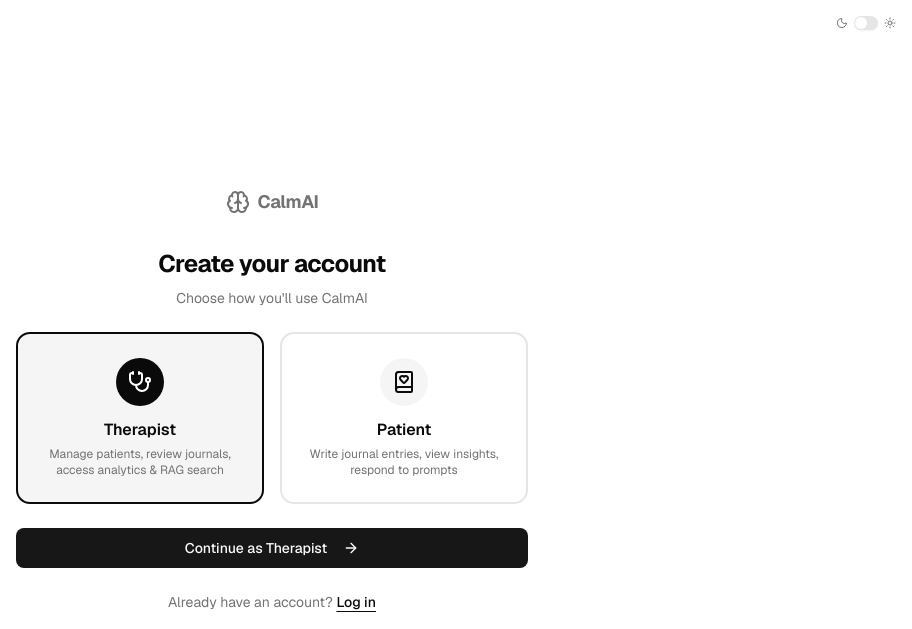
Test: Signup page › switches back to Therapist role when Therapist card is clicked
The image size is (912, 629).
What coordinates should you click on to do the following:
click the text "Patient"
I would click on:
 (404, 430)
Its box is [377,419,431,440].
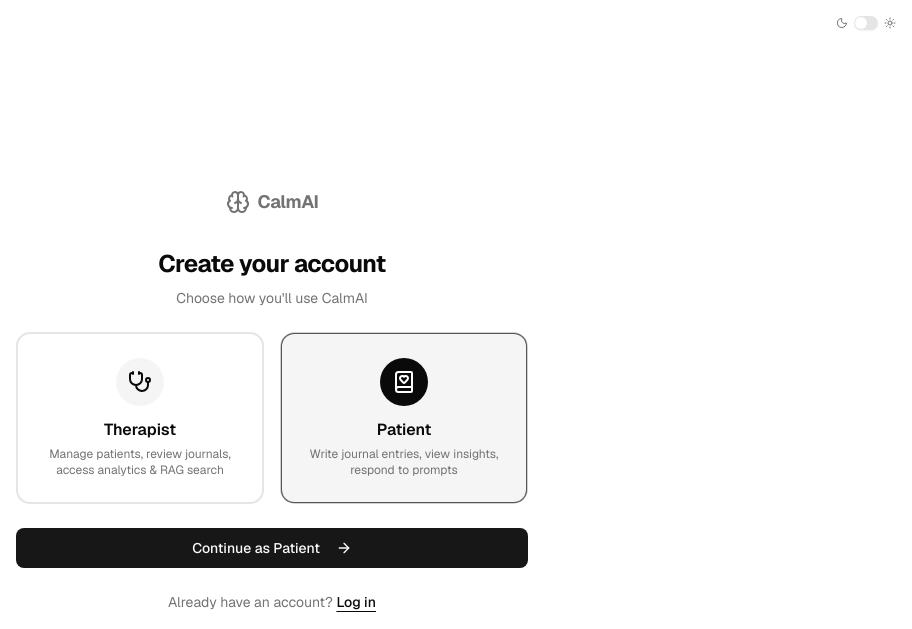
Result: the button "Continue as Patient" is shown at [16,528,528,568]
What coordinates should you click on to do the following:
click the text "Therapist"
I would click on:
 (140, 430)
Its box is [104,419,176,440].
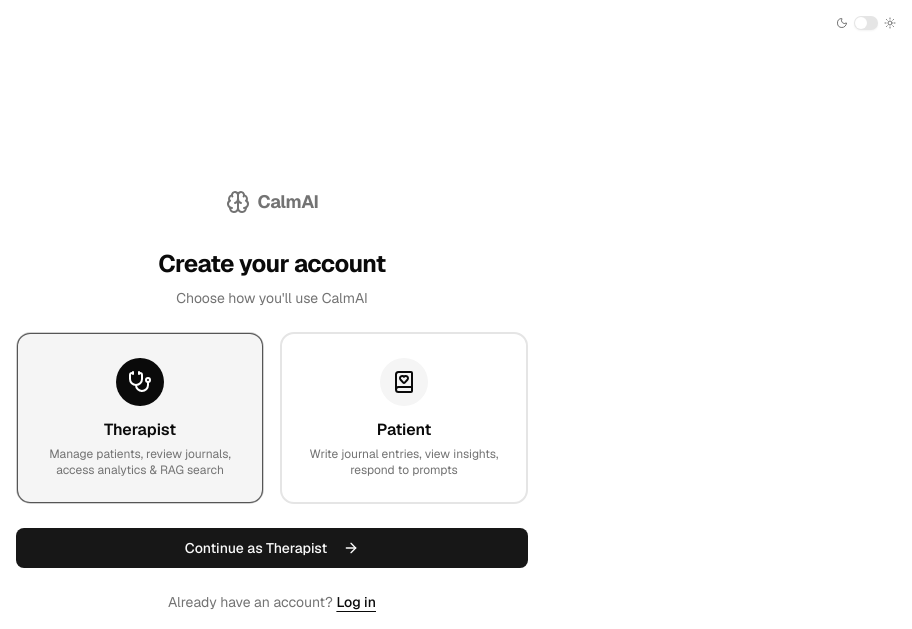
Result: the button "Continue as Therapist" is shown at [16,528,528,568]
